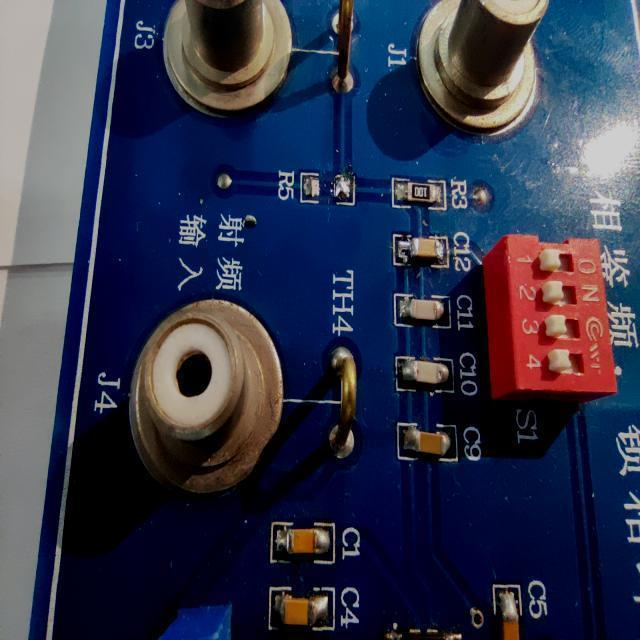Missing component: (278, 164, 359, 209)
